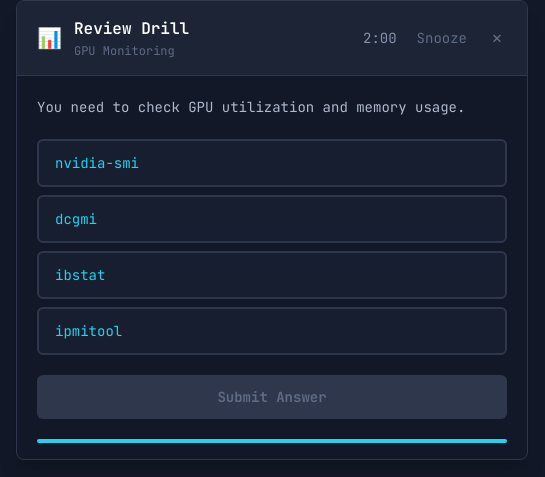
Scenario: SpacedReviewDrill › enables submit when answer is selected
Click the button "nvidia-smi" at (97, 163), box x1=37 y1=139 x2=507 y2=187
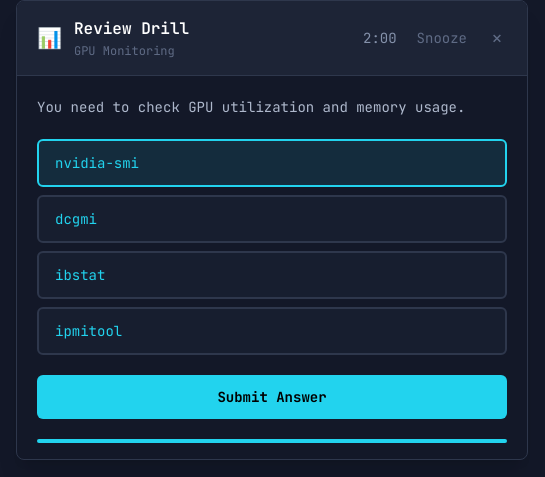
Expected: the button "Submit Answer" is enabled, x1=37 y1=375 x2=507 y2=419
